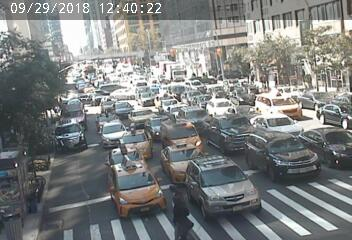car: (186, 158, 255, 212), (248, 125, 313, 179), (115, 168, 163, 208), (206, 115, 260, 149), (308, 124, 352, 164), (248, 112, 306, 139), (157, 149, 204, 176), (162, 122, 204, 147), (98, 119, 131, 149), (258, 92, 305, 113), (50, 125, 88, 149), (120, 129, 154, 155), (319, 101, 351, 125), (111, 150, 149, 170), (177, 107, 215, 127), (208, 100, 240, 118), (62, 100, 84, 120), (136, 87, 158, 106), (129, 110, 154, 126), (147, 113, 163, 135), (158, 97, 180, 112), (115, 104, 133, 120), (111, 101, 131, 115), (188, 79, 208, 91), (182, 90, 198, 100)
